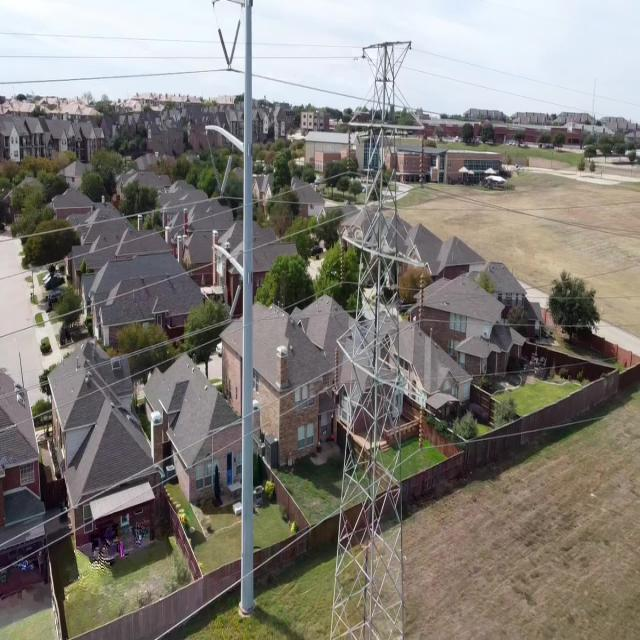杆塔: (319, 36, 415, 638)
正常电缆: (0, 356, 351, 549), (0, 183, 422, 341), (0, 381, 337, 576), (0, 280, 341, 438), (0, 169, 350, 284), (152, 504, 340, 640), (423, 408, 640, 452), (4, 59, 227, 99)
正常绝缘子: (227, 19, 243, 71), (217, 26, 232, 70), (219, 154, 234, 198), (210, 154, 223, 196), (418, 268, 427, 328), (228, 283, 242, 320), (219, 275, 231, 318), (418, 132, 426, 188), (418, 402, 425, 452), (346, 133, 352, 176), (340, 243, 346, 285), (334, 344, 339, 390)
